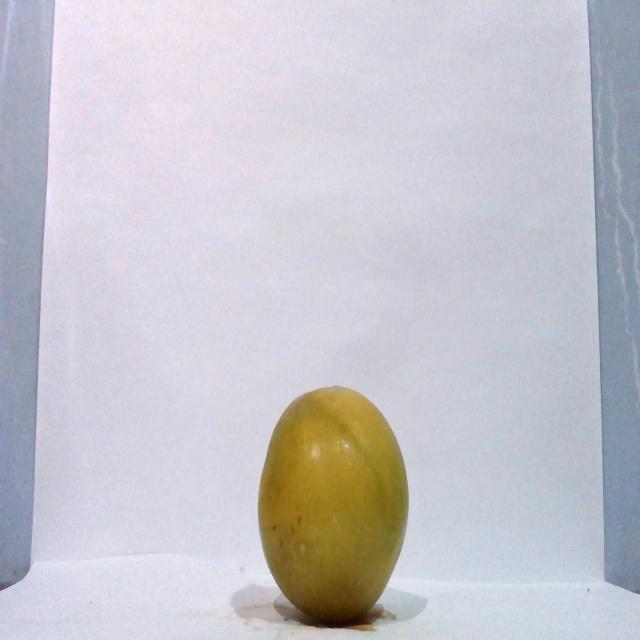Green: (256, 384, 410, 624)
